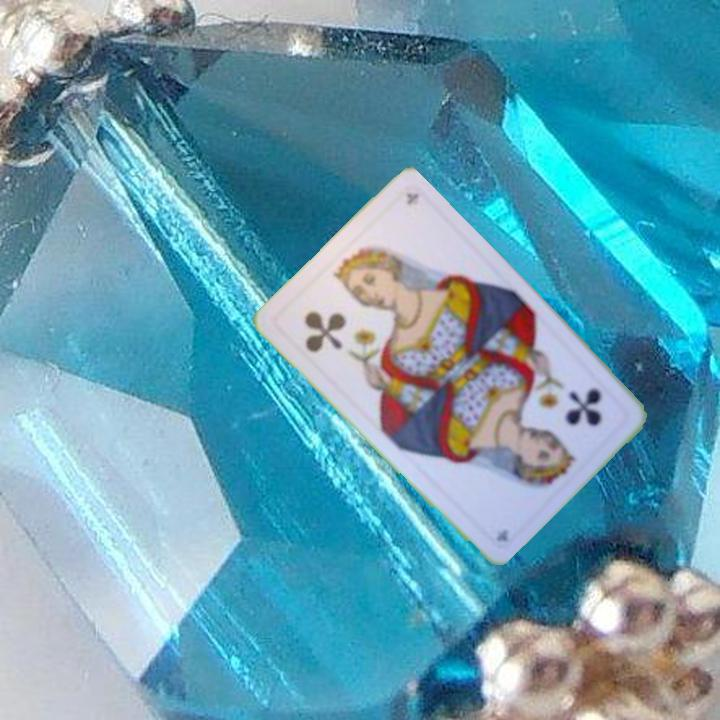c_q.png: (504, 353, 633, 482), (271, 251, 400, 380)
